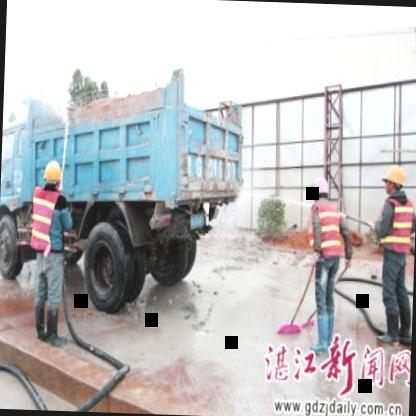helmet: (378, 162, 408, 206), (40, 159, 65, 197), (309, 174, 332, 211)
